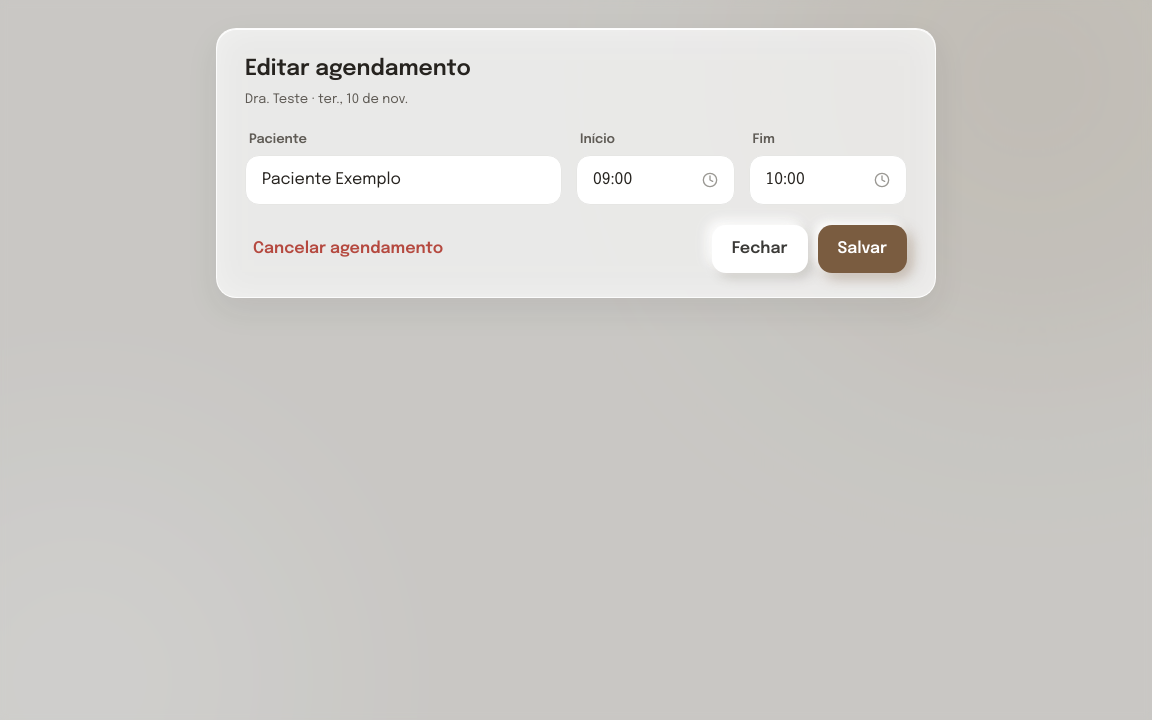
Test case: Painel de agendamento › avisa quando o agendamento já foi cancelado em outra tela
The width and height of the screenshot is (1152, 720).
Click the button "Salvar".
click(862, 249)  # box top-left (818, 225), bottom-right (907, 273)
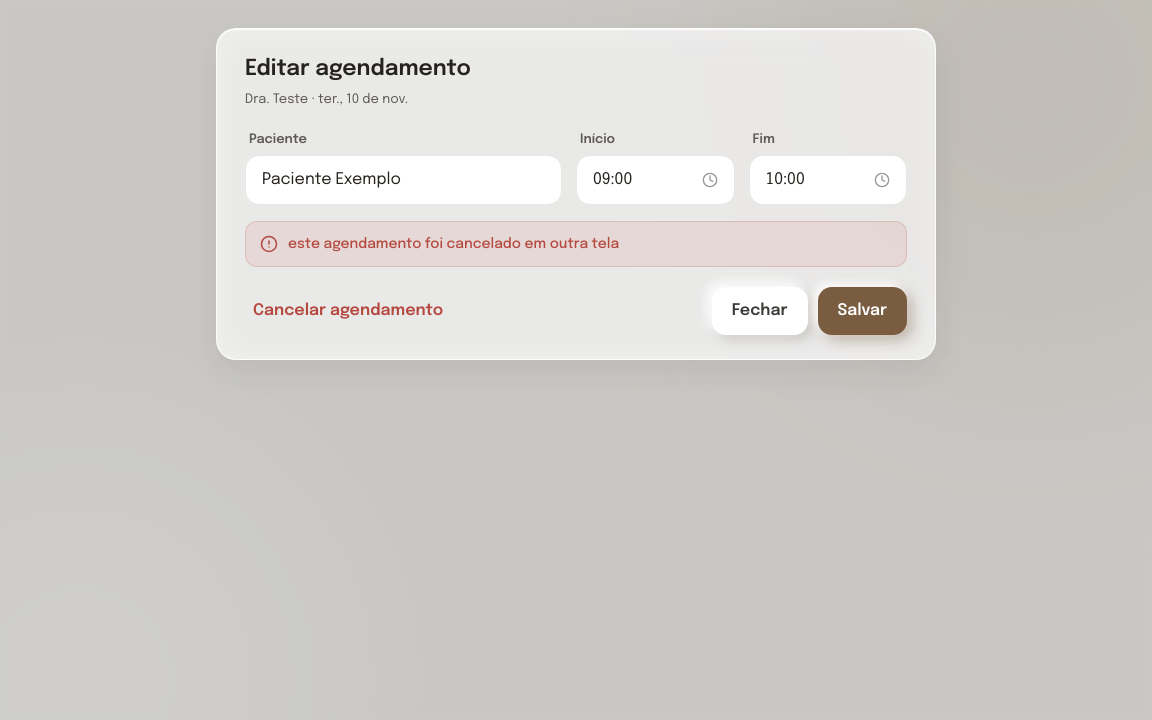
Expected: the message shows "cancelado em outra tela", top-left (288, 237), bottom-right (619, 251)
